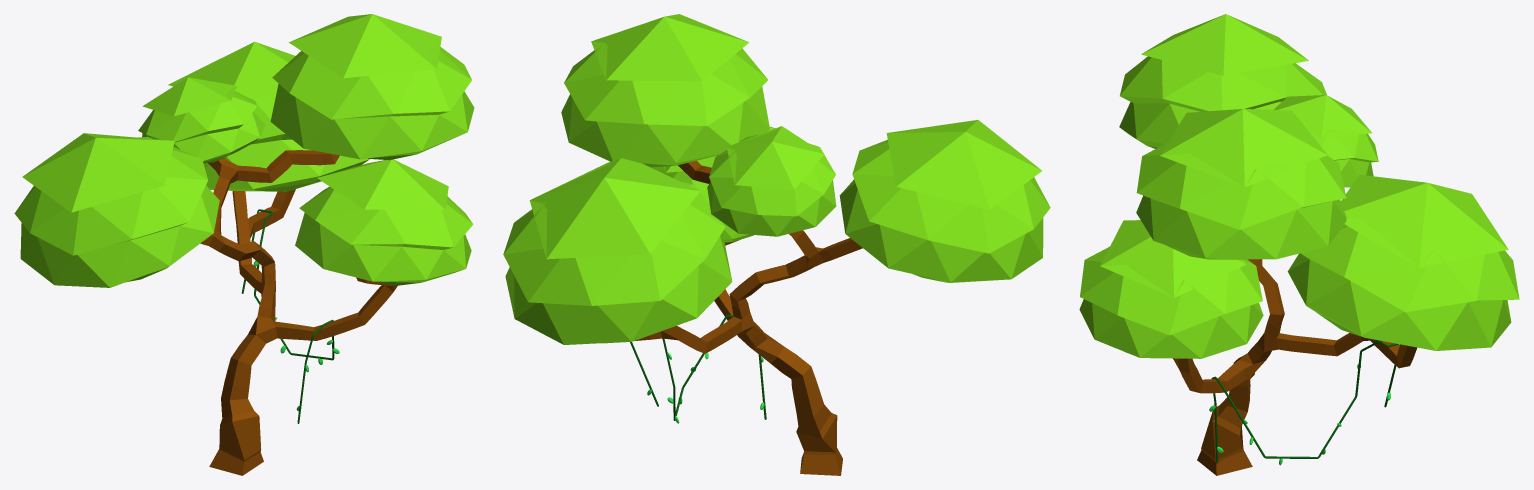
The model's file is small_tree_1_object1.fbx.
3 renders of one model, left to right at view 1: azimuth 30°, elevation 25°; view 2: azimuth 150°, elevation 25°; view 3: azimuth 270°, elevation 25°, orthographic. The views are drawn at different scales.
Parts seen in each view (by area): view 1: Cube; view 2: Cube; view 3: Cube.
Boxes of the visible parts, <box> form: Cube: <box>14,14,474,475</box>; Cube: <box>503,14,1050,475</box>; Cube: <box>1079,14,1519,475</box>.
Bounding box in the file's own units: 2199 × 1947 × 1811.
